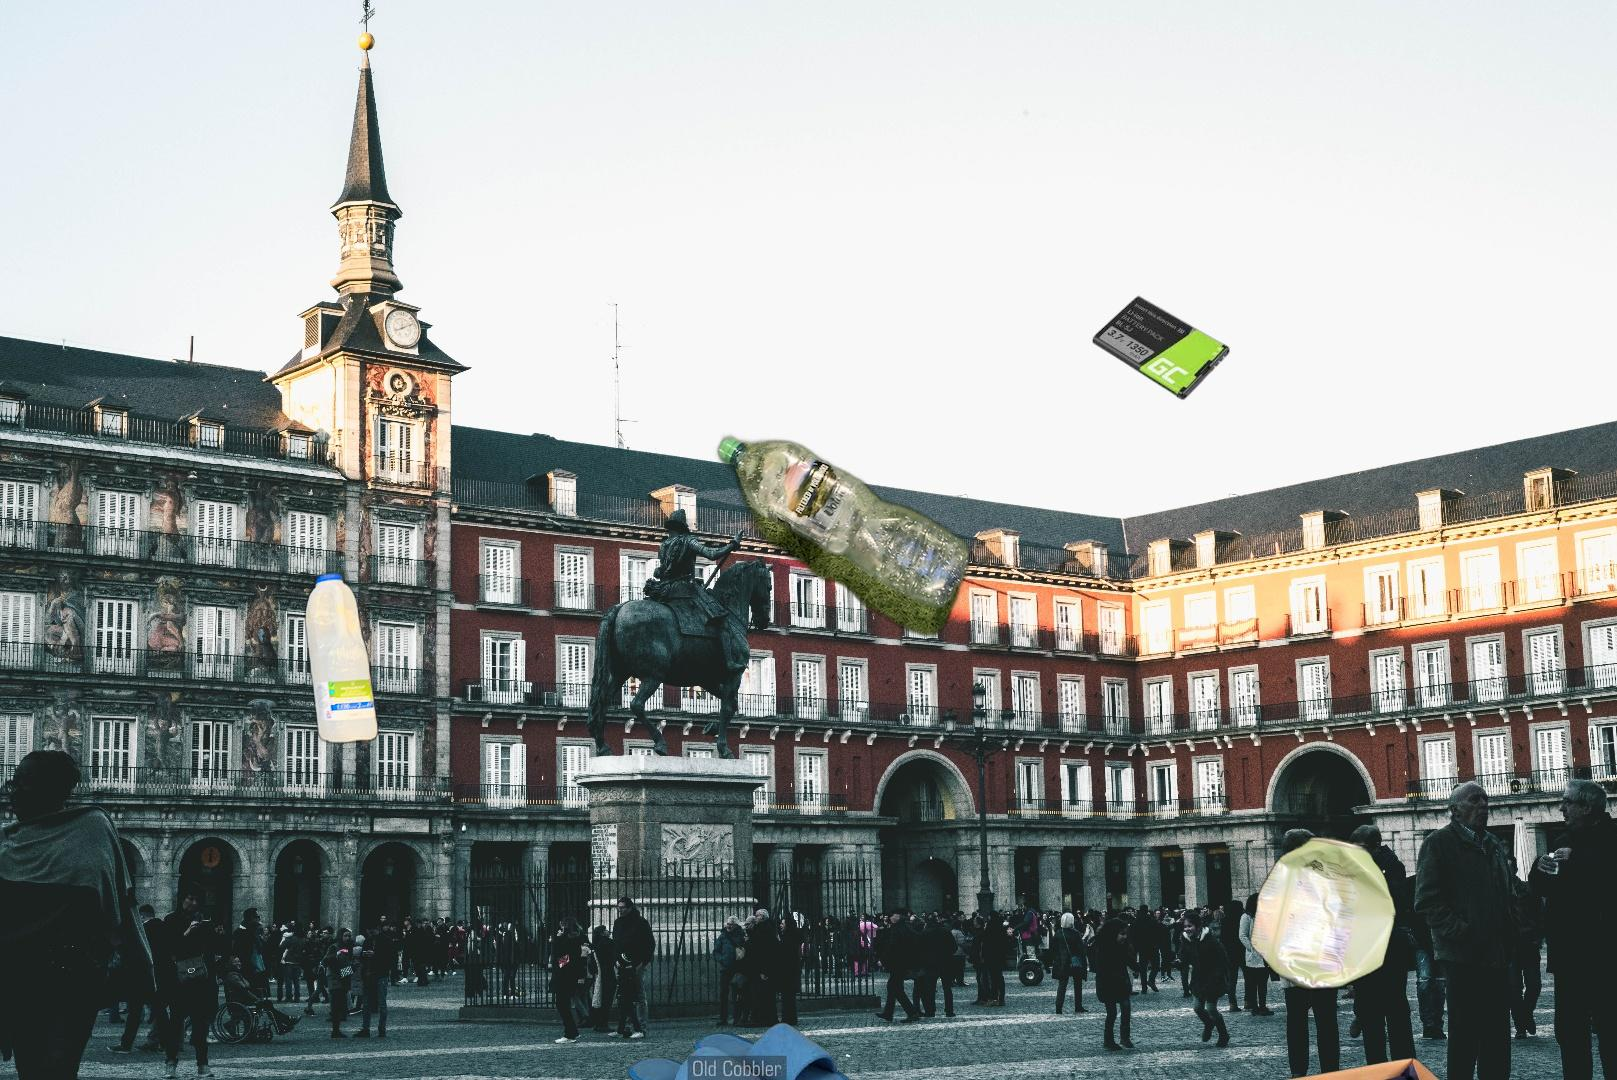battery: (1090, 293, 1231, 403)
metal-cans: (1245, 830, 1401, 996)
penholder: (1176, 1070, 1617, 1080)
plastic-bottles: (713, 430, 975, 642), (300, 567, 383, 749)
shoes: (627, 1020, 851, 1080)
trashbox-cardboard: (1127, 1053, 1499, 1080)
